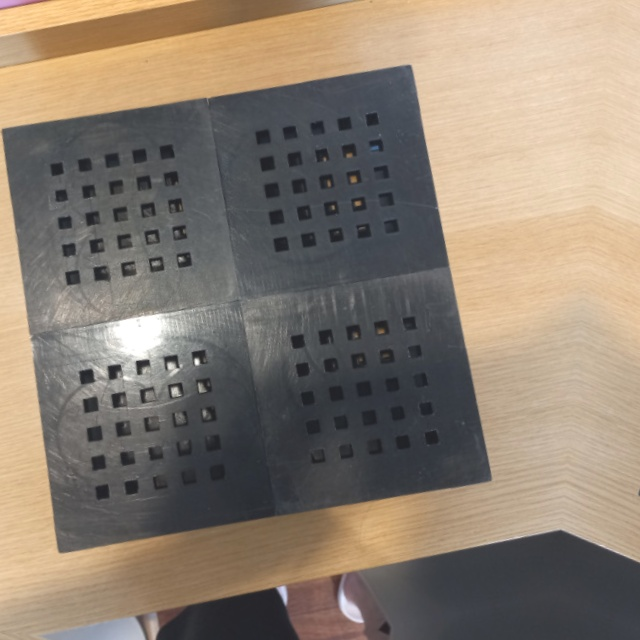pallet: (0, 52, 495, 562)
